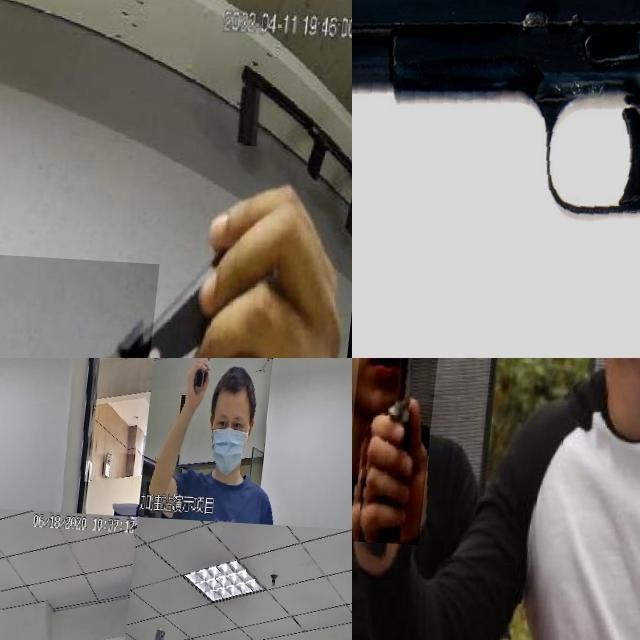-: (352, 358, 457, 542), (0, 247, 166, 358)
gun-knife-thesis - v11 Yolov5 augmented: (352, 0, 640, 358), (184, 358, 225, 398), (150, 618, 194, 640), (0, 358, 17, 402)
